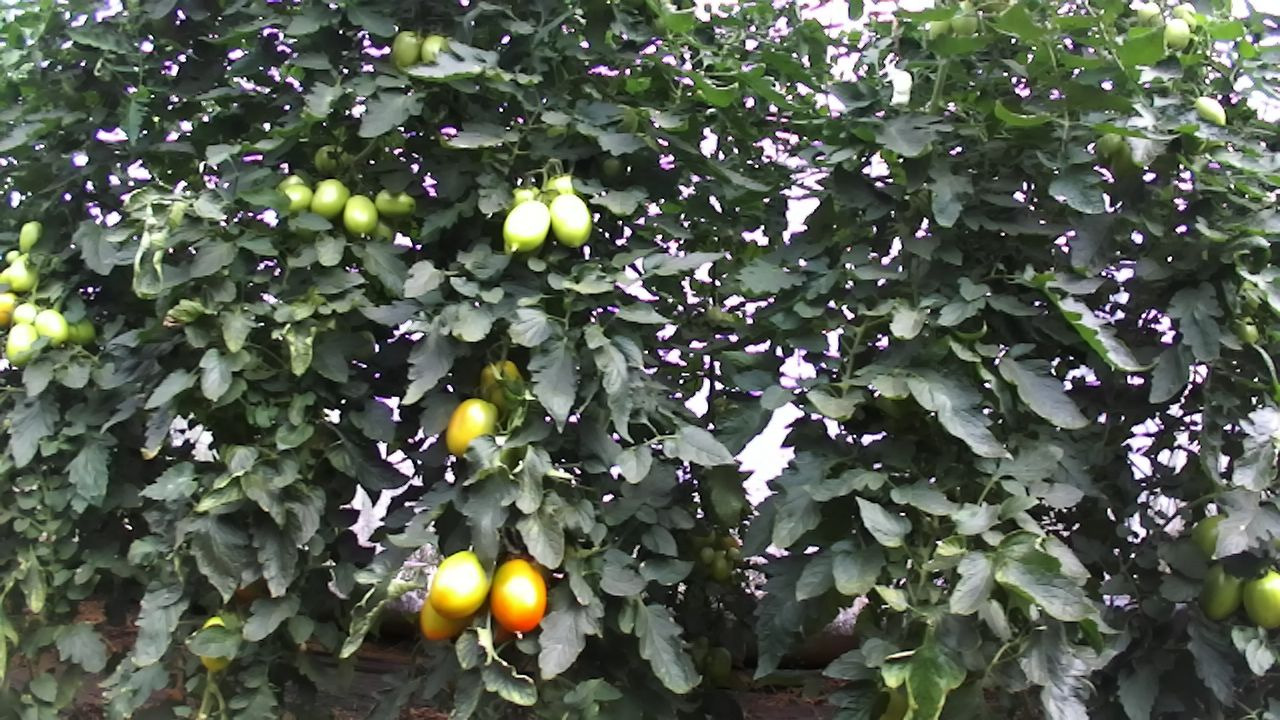tomato: (488, 554, 549, 636), (425, 547, 491, 621), (442, 395, 497, 461), (1193, 558, 1246, 624), (499, 197, 552, 257), (546, 190, 594, 251), (1240, 566, 1280, 632), (307, 176, 353, 220), (340, 190, 379, 239), (389, 25, 426, 70), (33, 306, 70, 349), (371, 186, 417, 220)
